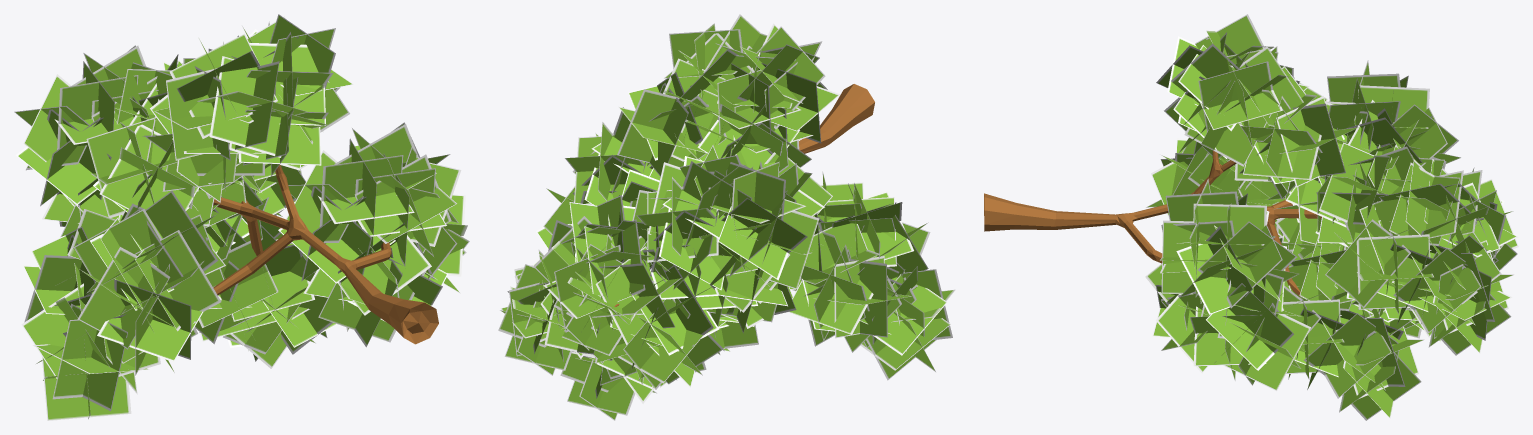
The model's file is tree.fbx.
The picture shows the model from 3 angles, left to right: view 1: azimuth 30°, elevation 25°; view 2: azimuth 150°, elevation 25°; view 3: azimuth 270°, elevation 25°; orthographic projection. The views are drawn at different scales.
Parts seen in each view (by area): view 1: Tree; view 2: Tree; view 3: Tree.
Boxes of the visible parts, bbox=[...] form: Tree: bbox=[14, 14, 469, 420]; Tree: bbox=[498, 14, 955, 420]; Tree: bbox=[984, 14, 1518, 420].
Bounding box in the file's own units: 59.11 × 52.49 × 71.67.
